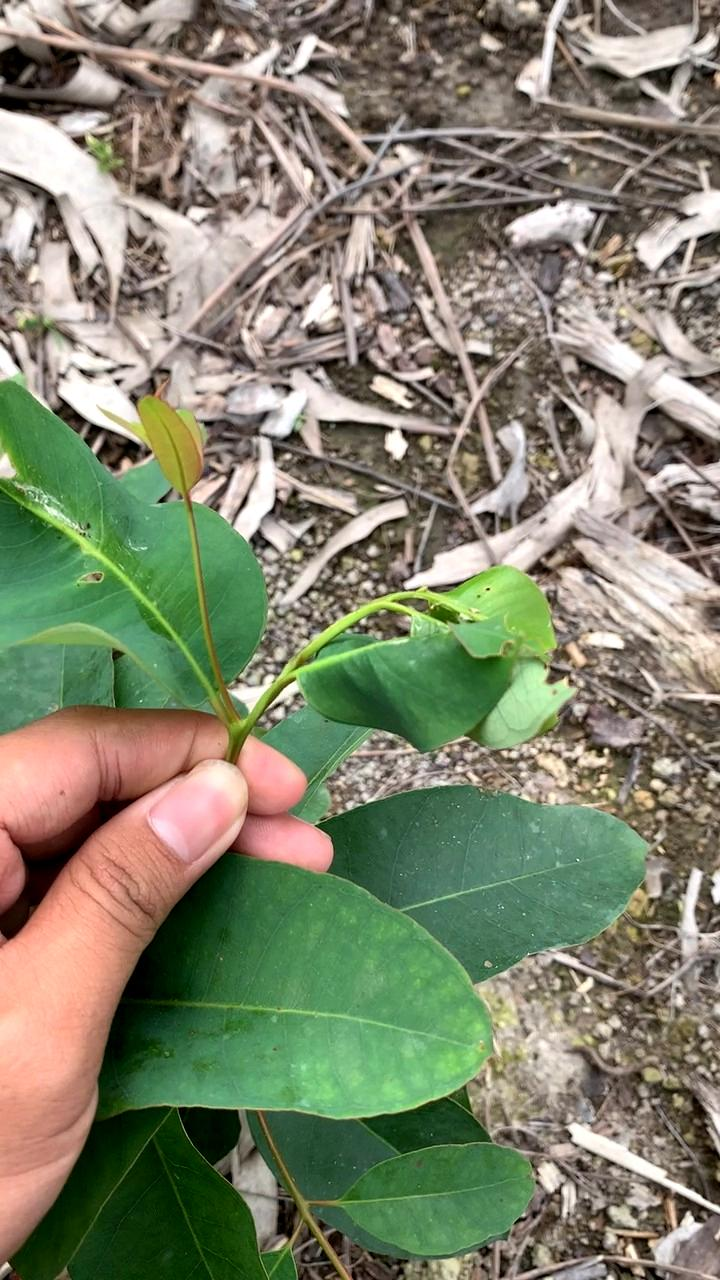Leaf Roller - Leaf: (349, 556, 596, 774)
